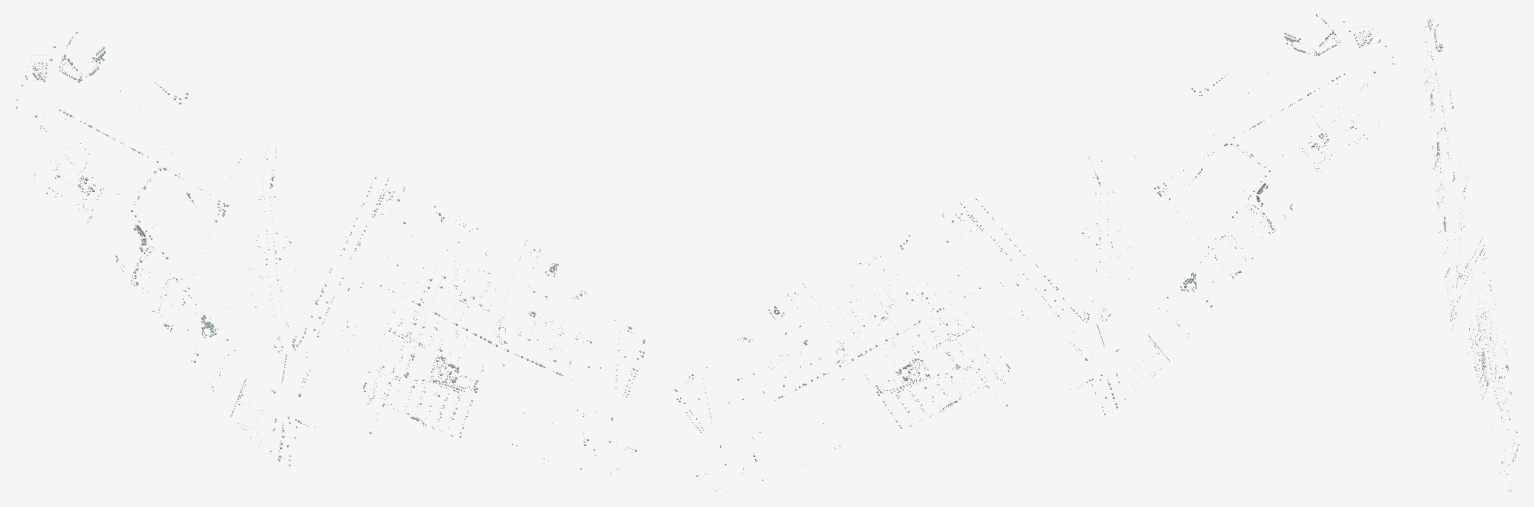
The model's file is trees.glb.
The picture shows the model from 3 angles, left to right: view 1: azimuth 30°, elevation 25°; view 2: azimuth 150°, elevation 25°; view 3: azimuth 270°, elevation 25°; orthographic projection. The views are drawn at different scales.
Visible parts, largest first — view 1: trees; view 2: trees; view 3: trees.
Part boxes in pixels (x1=…): trees: x1=14, y1=31, x2=645, y2=475; trees: x1=674, y1=14, x2=1394, y2=491; trees: x1=1424, y1=18, x2=1519, y2=492.
Size of the model in its own units: 2911 by 2457 by 667.
